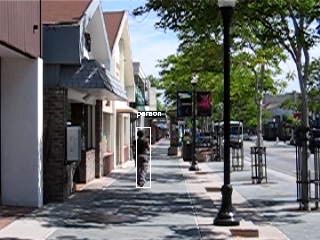person: (132, 131, 151, 190), (131, 131, 150, 190), (133, 131, 152, 190), (132, 130, 151, 189), (132, 132, 151, 191)
target_negative: (17, 17, 286, 117), (27, 46, 208, 153), (139, 69, 281, 201), (221, 133, 235, 236), (159, 47, 174, 105), (189, 218, 209, 228)
